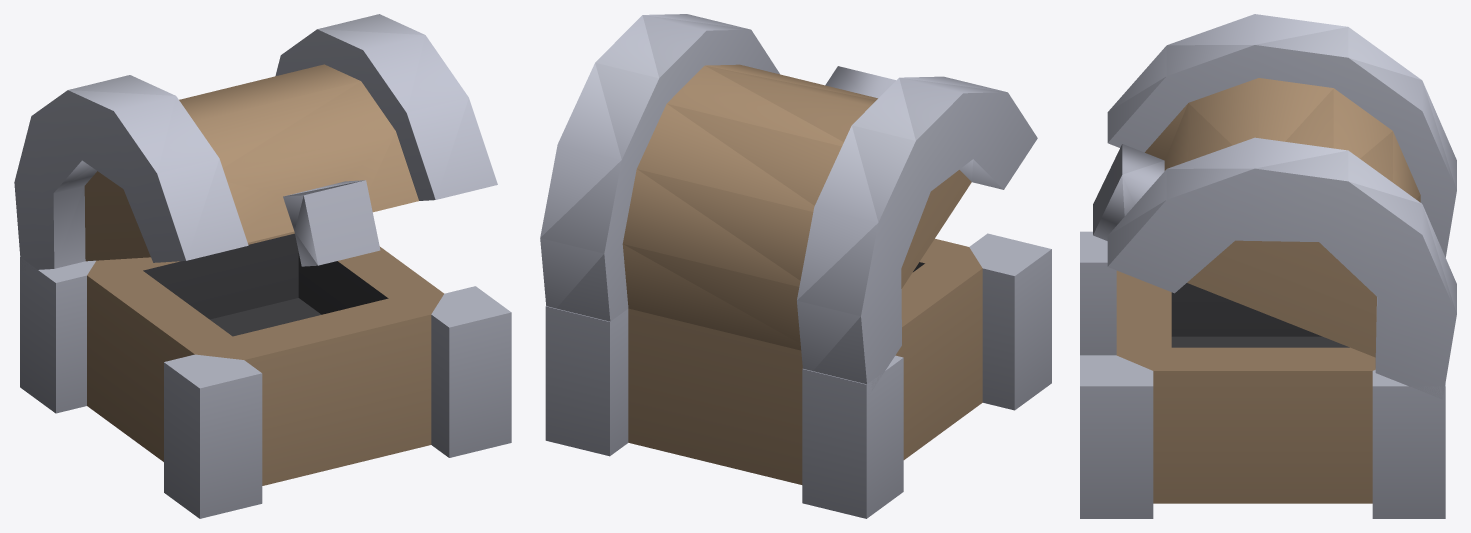
File: K_Chest.glb
3 views of the same model, side by side, from view 1: azimuth 30°, elevation 25°; view 2: azimuth 150°, elevation 25°; view 3: azimuth 270°, elevation 25° (orthographic). The views are drawn at different scales.
Parts seen in each view (by area): view 1: K_Chest; view 2: K_Chest; view 3: K_Chest.
Part boxes in pixels (left/top/right/bottom): K_Chest: left=14, top=14, right=511, bottom=518; K_Chest: left=540, top=14, right=1051, bottom=518; K_Chest: left=1080, top=14, right=1456, bottom=518.
Bounding box in the file's own units: 1.02 × 1.08 × 1.05.
